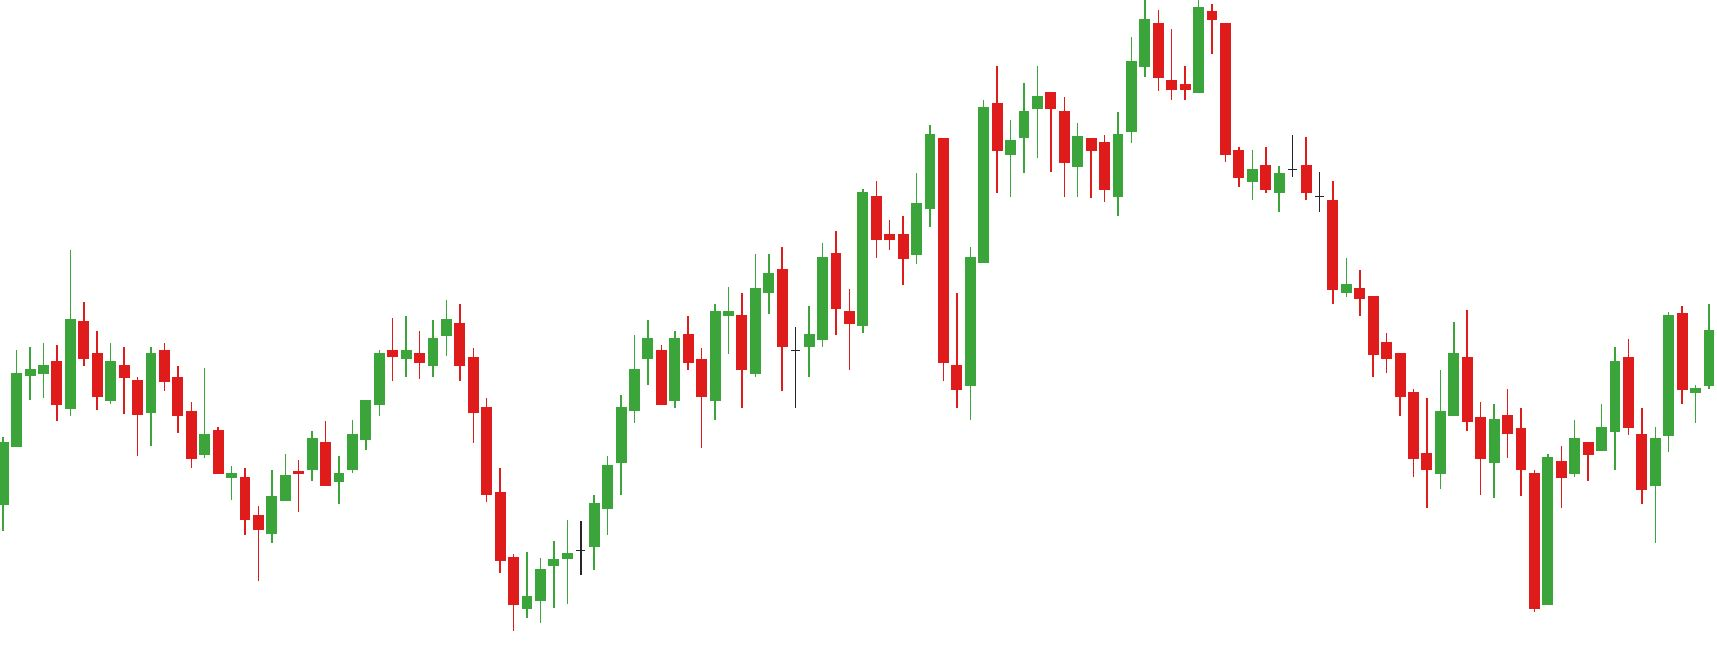buy: (252, 398, 548, 635), (1421, 356, 1558, 621), (845, 235, 979, 420)
sell: (1032, 9, 1167, 133)
